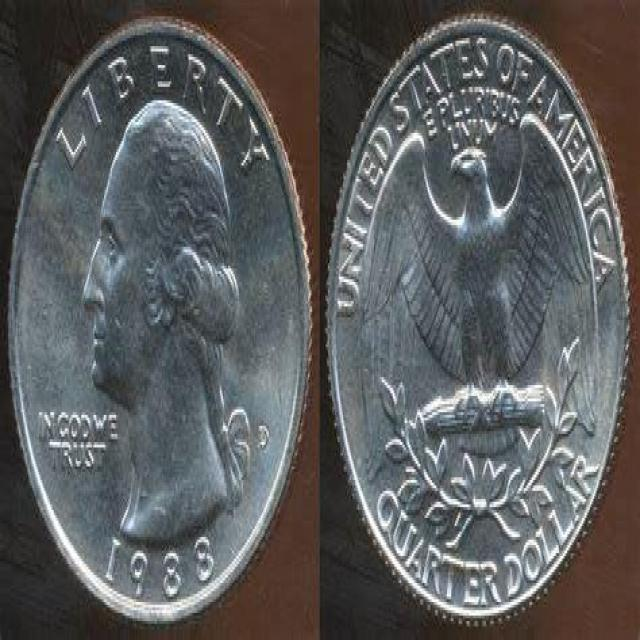Quarter: (326, 2, 638, 638), (3, 6, 322, 626)
